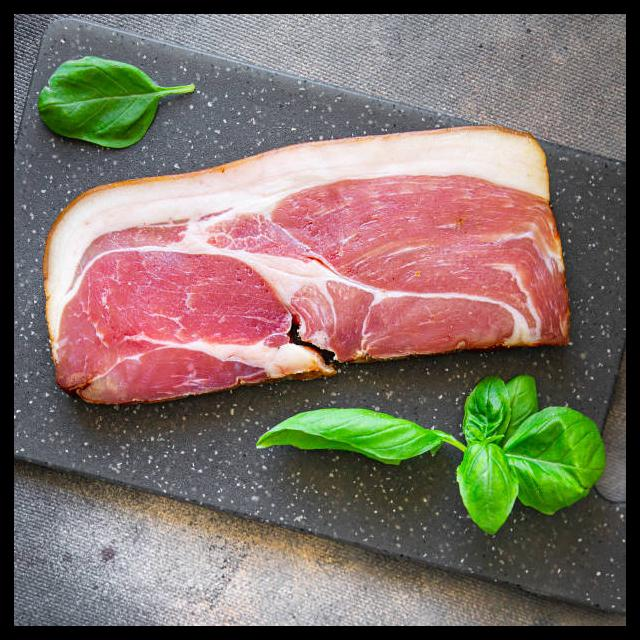pork: (37, 144, 571, 379)
